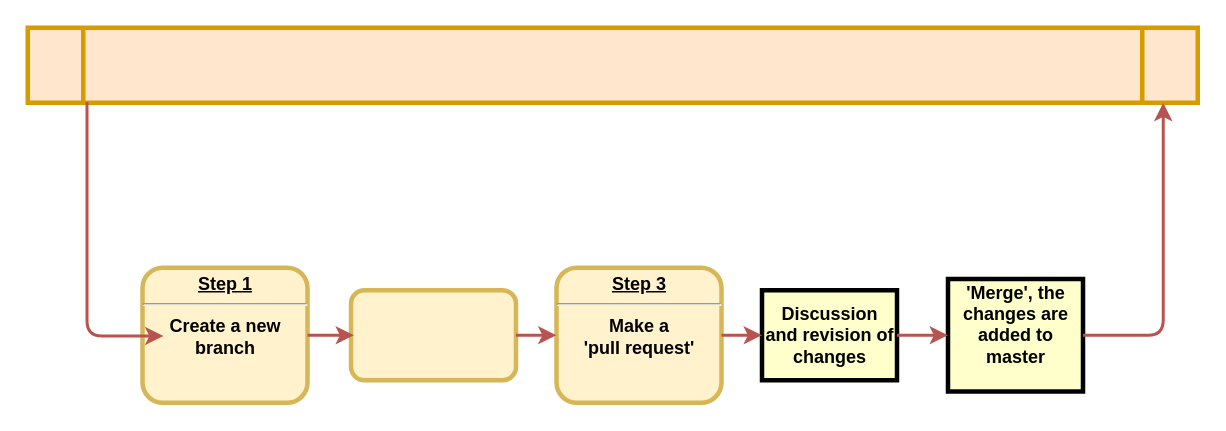
The diagram is 1226 pixels wide and 431 high, and some of its shapes have lost their labels. Each missing label, with the centre of its shape:
"Main branch 'master'" belongs at [612,64].
"Step 2 Add commits" belongs at [433,334].
